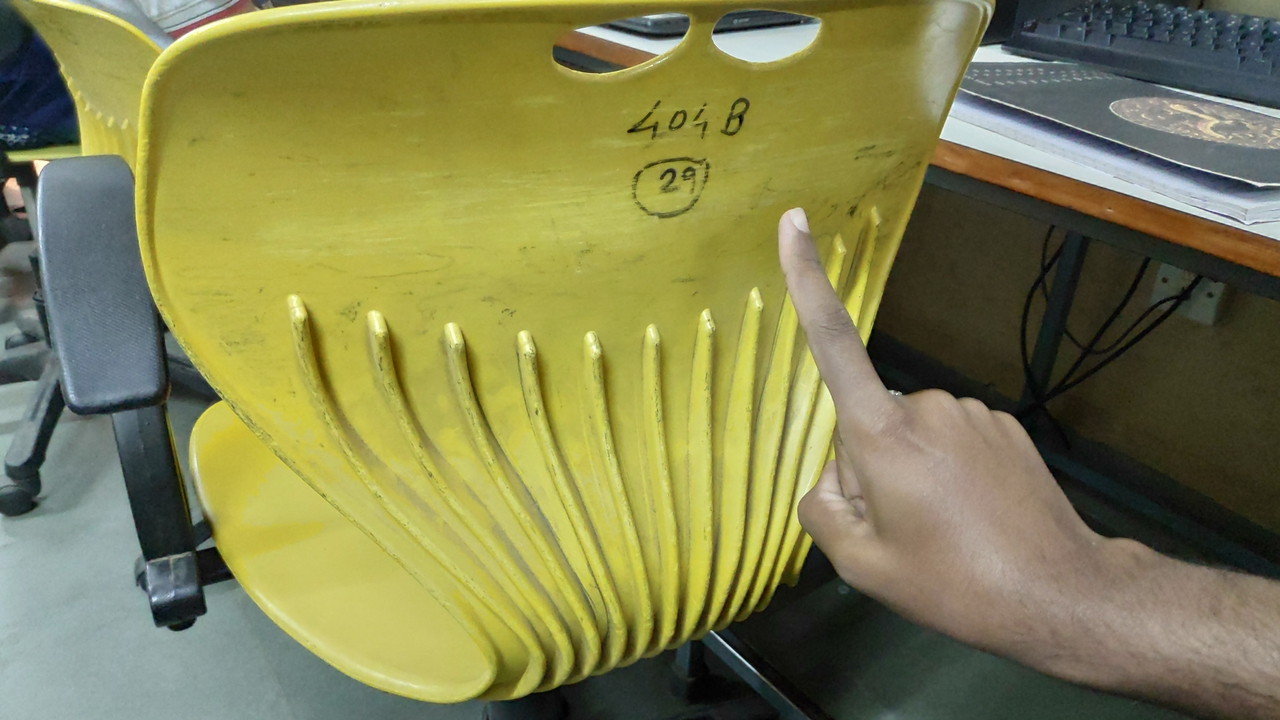fingertip: (770, 196, 822, 254)
